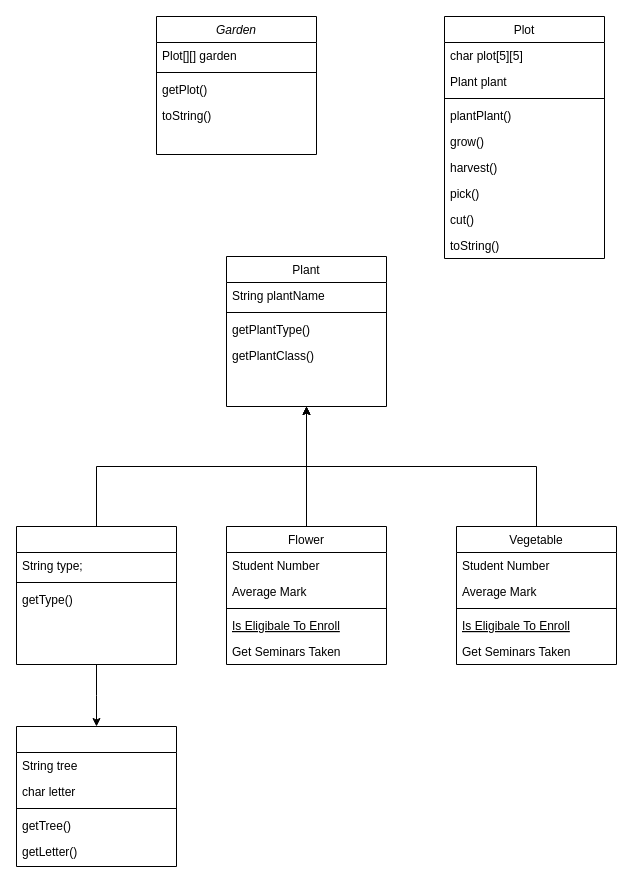
The diagram is 633 pixels wide and 883 high, and some of its shapes have lost their labels. Here are the shapes that lost their labels. From the top down, the box of each, then its label:
(16, 526, 176, 664): Tree
(16, 726, 176, 866): Apple Tree
